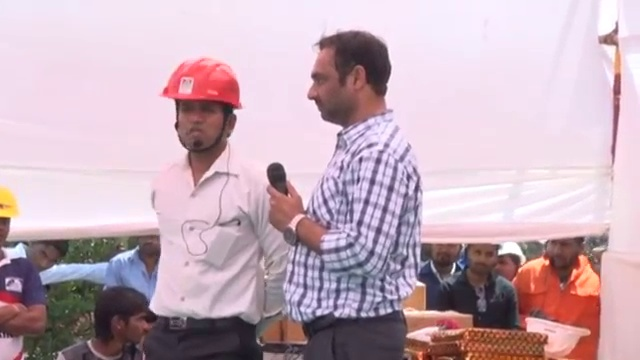helmet: (156, 46, 244, 114), (524, 317, 590, 358), (0, 183, 20, 221), (498, 243, 525, 265)
helmet_off: (309, 30, 396, 131), (91, 289, 151, 347), (538, 233, 587, 281), (23, 237, 64, 277), (466, 243, 498, 280), (431, 241, 462, 272), (134, 235, 160, 262)
helmet_on: (158, 47, 241, 168), (0, 182, 19, 260), (498, 243, 526, 280)
person: (263, 23, 436, 360), (130, 49, 283, 360), (519, 233, 601, 360), (0, 184, 46, 360), (440, 244, 521, 327), (57, 289, 150, 360), (104, 234, 161, 300), (417, 241, 464, 311)
